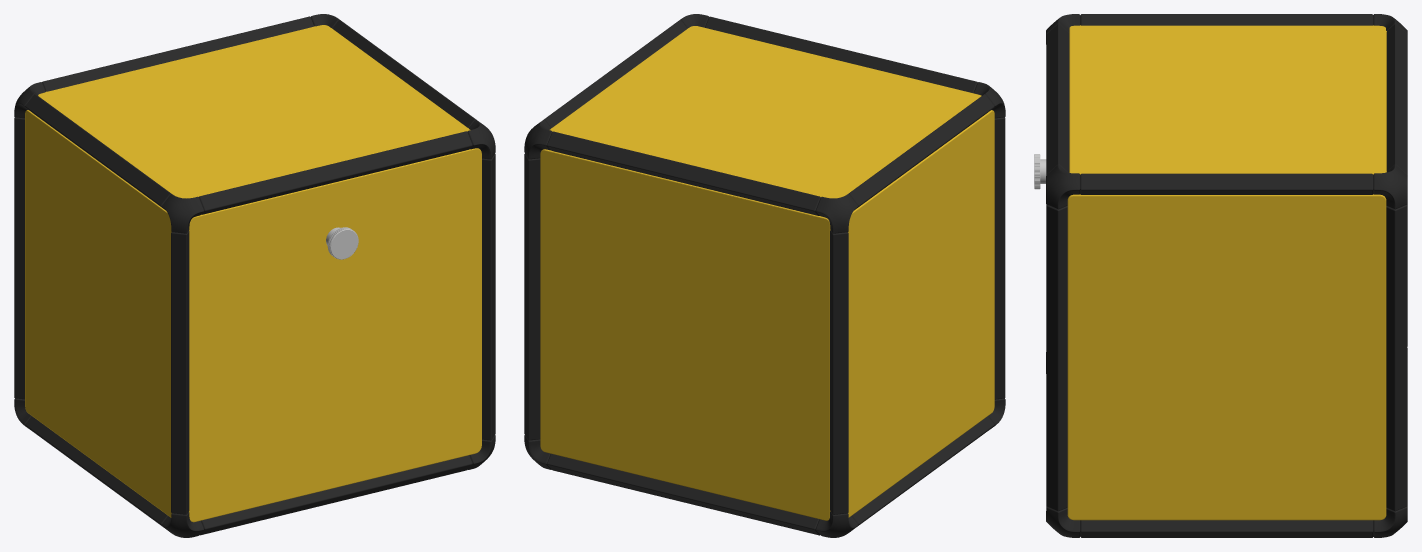
3 views of the same model, side by side, from view 1: azimuth 30°, elevation 25°; view 2: azimuth 150°, elevation 25°; view 3: azimuth 270°, elevation 25° (orthographic). The views are drawn at different scales.
Visible parts, largest first — view 1: 374x329x374; view 2: 374x329x374; view 3: 374x329x374.
Part boxes in pixels (left/top/right/bottom): 374x329x374: left=14, top=14, right=495, bottom=537; 374x329x374: left=524, top=14, right=1005, bottom=537; 374x329x374: left=1034, top=14, right=1407, bottom=537.
Bounding box in the file's own units: 0.4517 × 0.4516 × 0.4196.
